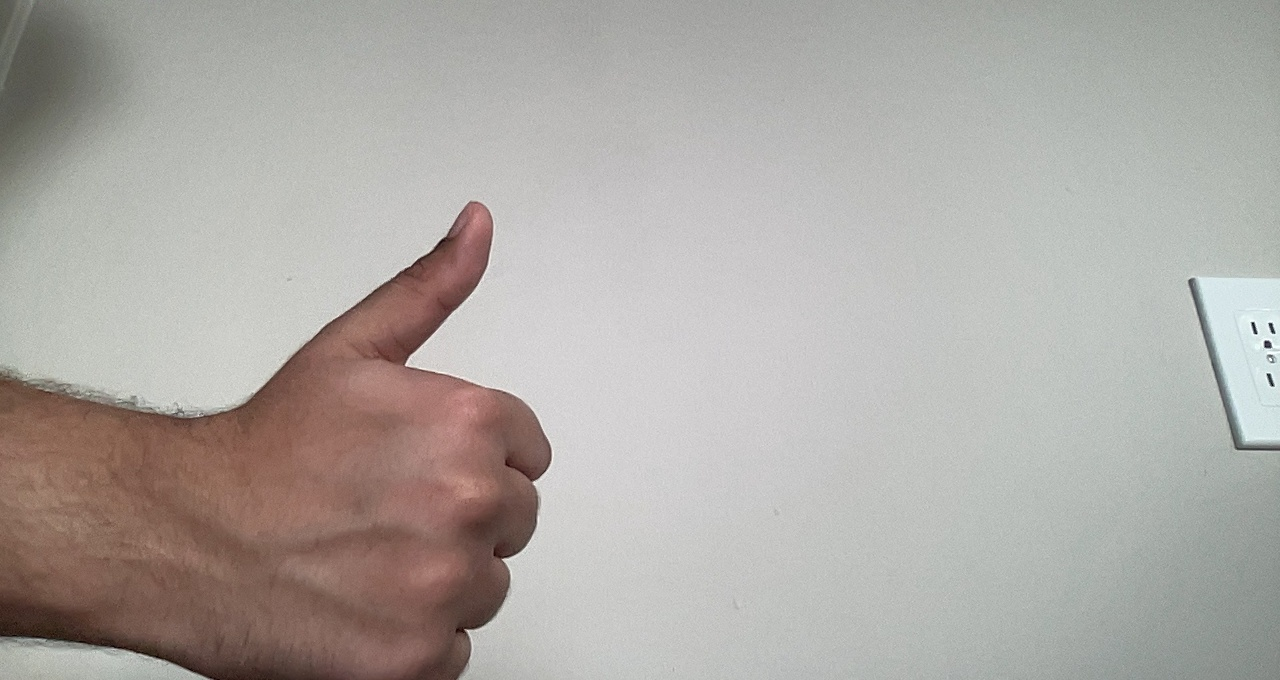thumbsup: (214, 188, 561, 678)
